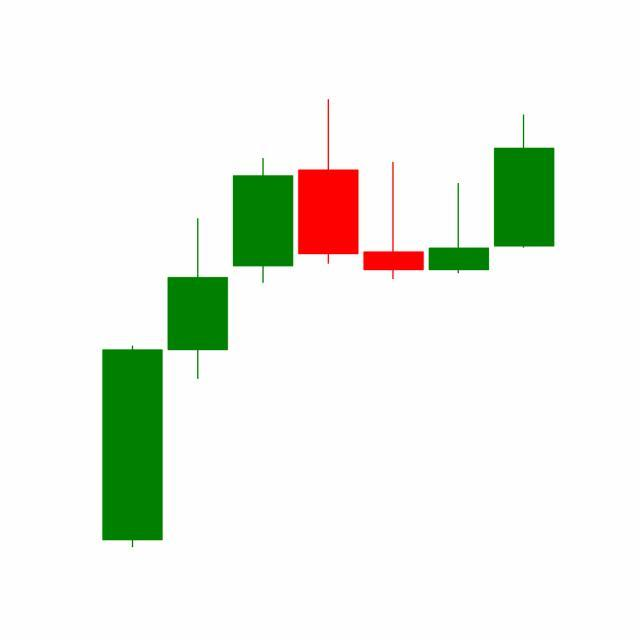Hikkake Pattern: (229, 100, 555, 288)
